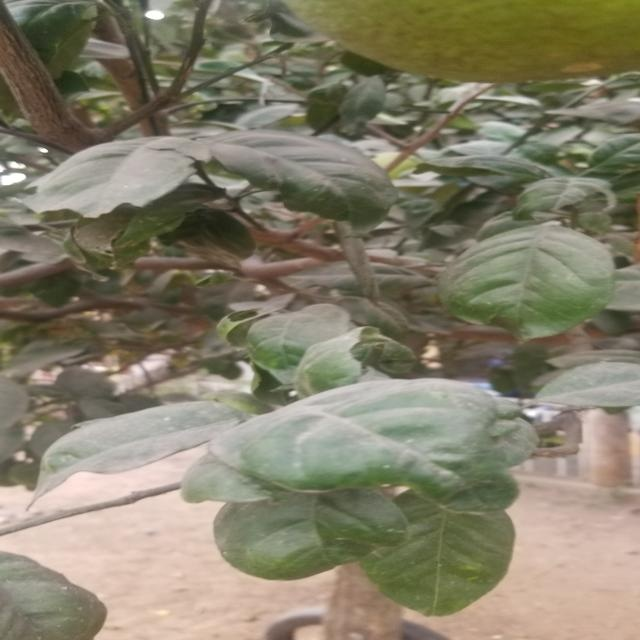agrume: (261, 0, 640, 95)
